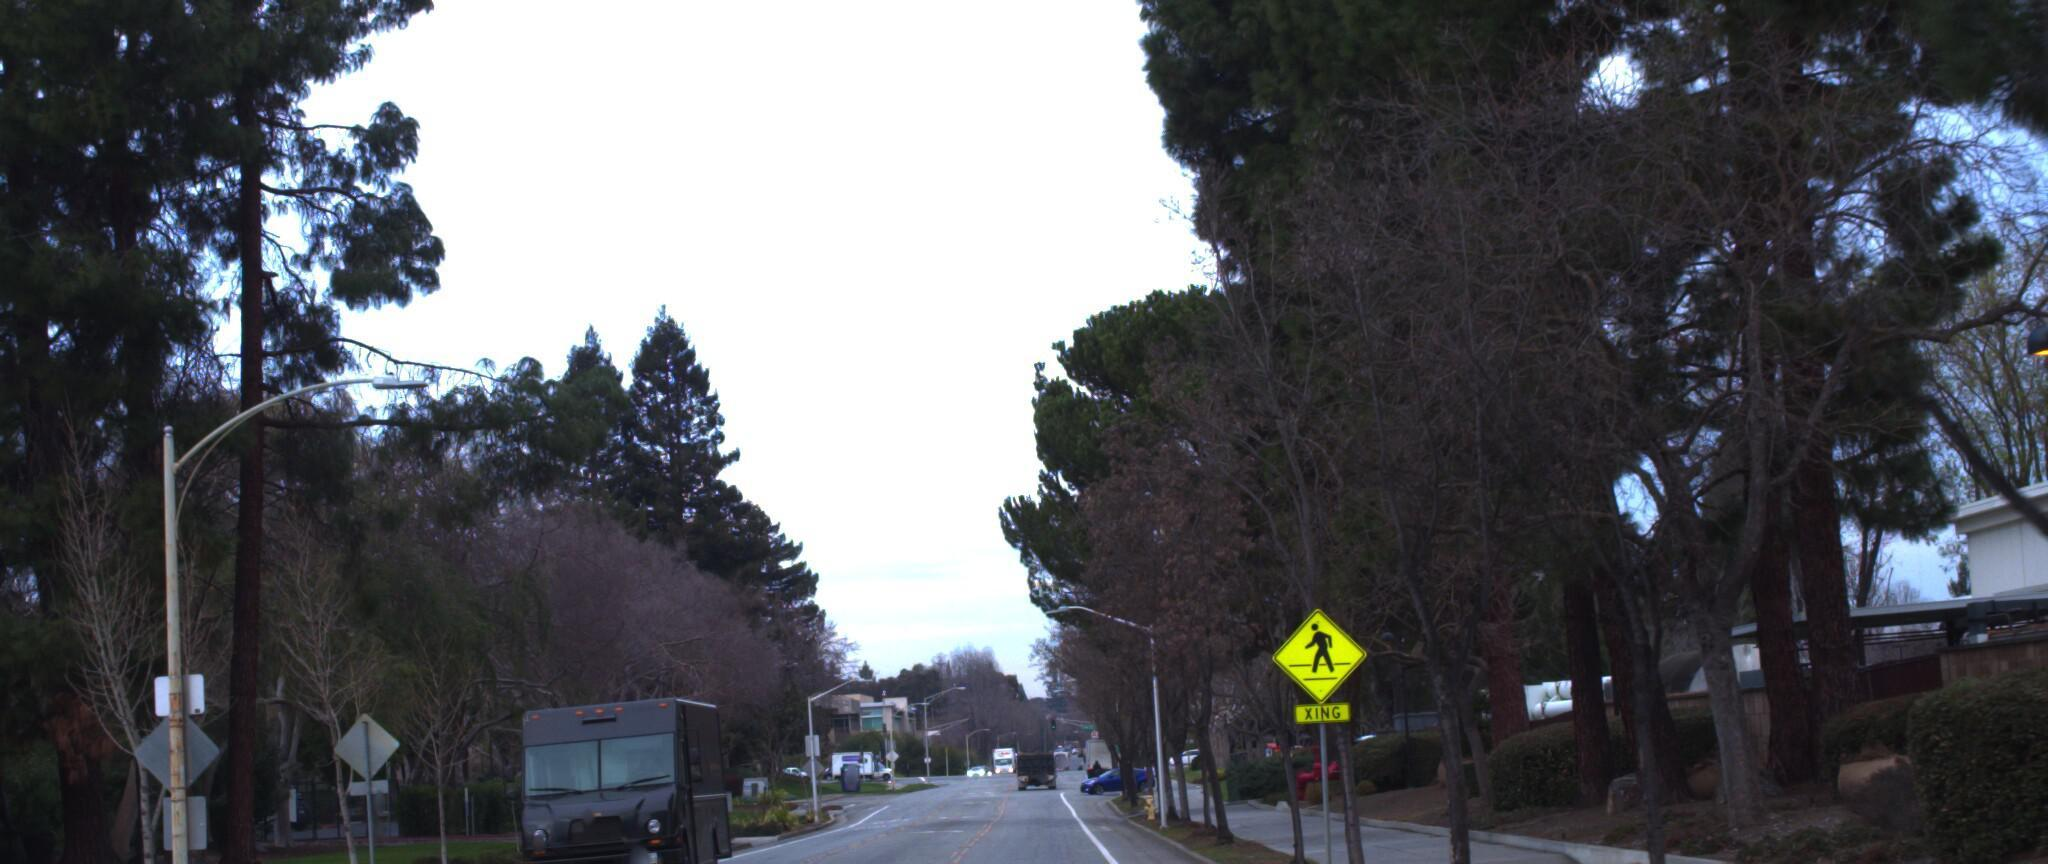truck: (494, 679, 743, 864)
